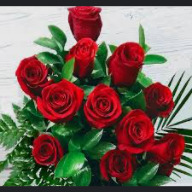RedRose: (39, 75, 83, 122), (105, 40, 147, 85), (146, 130, 188, 174), (81, 82, 120, 128), (117, 106, 156, 152), (59, 39, 101, 79), (98, 146, 137, 185), (65, 6, 105, 43), (15, 53, 48, 96), (32, 129, 65, 170), (144, 80, 175, 119)
